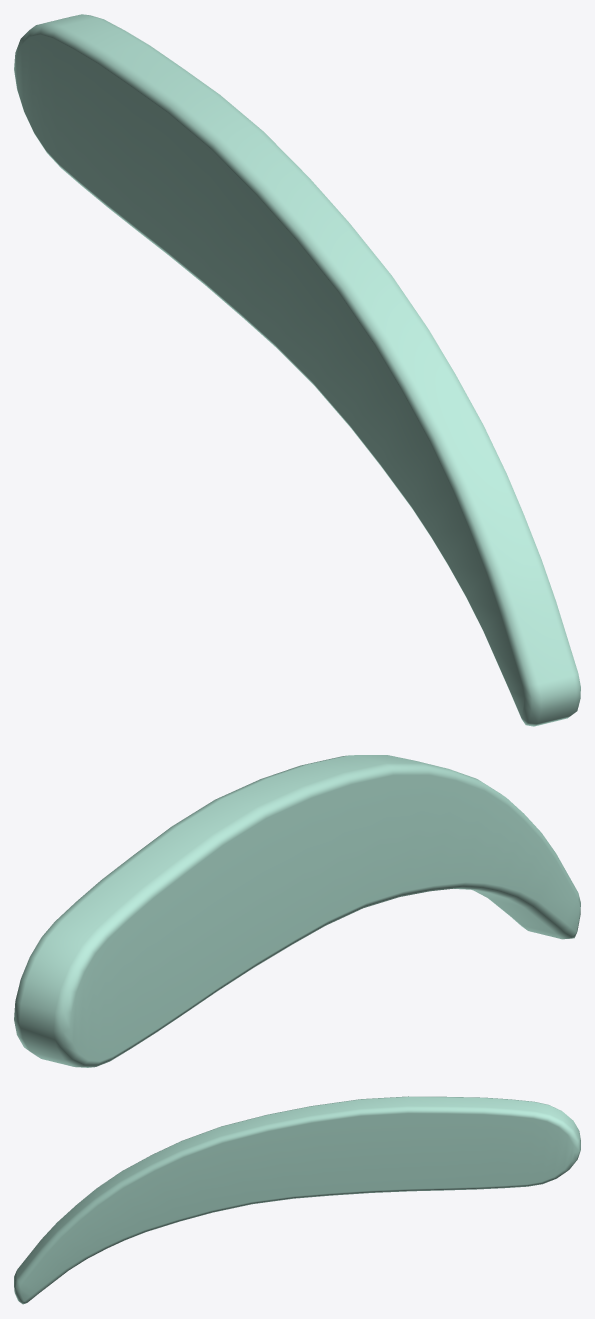
File: SM_Robot_Hand_part07.fbx
3 views of the same model, one above another, from view 1: azimuth 30°, elevation 25°; view 2: azimuth 150°, elevation 25°; view 3: azimuth 270°, elevation 25° (orthographic). The views are drawn at different scales.
Parts seen in each view (by area): view 1: SM_Robot_Hand_part07; view 2: SM_Robot_Hand_part07; view 3: SM_Robot_Hand_part07.
Part boxes in pixels (left/top/right/bottom): SM_Robot_Hand_part07: left=14, top=14, right=580, bottom=726; SM_Robot_Hand_part07: left=14, top=755, right=580, bottom=1067; SM_Robot_Hand_part07: left=14, top=1096, right=580, bottom=1304.
Bounding box in the file's own units: 1.49 × 9.4 × 24.38.
